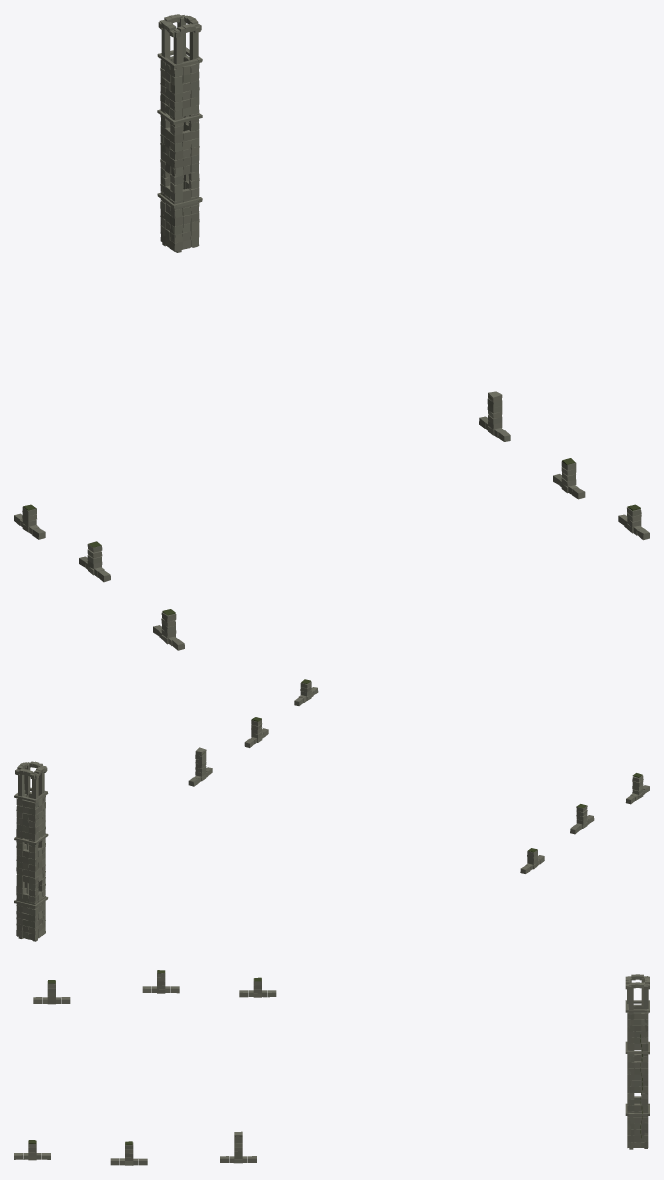
Rendered from world-finish.glb.
3 views of the same model, one above another, from view 1: azimuth 30°, elevation 25°; view 2: azimuth 150°, elevation 25°; view 3: azimuth 270°, elevation 25° (orthographic). The views are drawn at different scales.
Visible parts, largest first — view 1: WorldFinish_Limestone; view 2: WorldFinish_Limestone; view 3: WorldFinish_Limestone.
Part boxes in pixels (bbox=[...]): WorldFinish_Limestone: bbox=[14, 14, 649, 650]; WorldFinish_Limestone: bbox=[14, 679, 649, 941]; WorldFinish_Limestone: bbox=[14, 970, 649, 1165].
Bounding box in the file's own units: 61.25 × 29.3 × 98.78.
